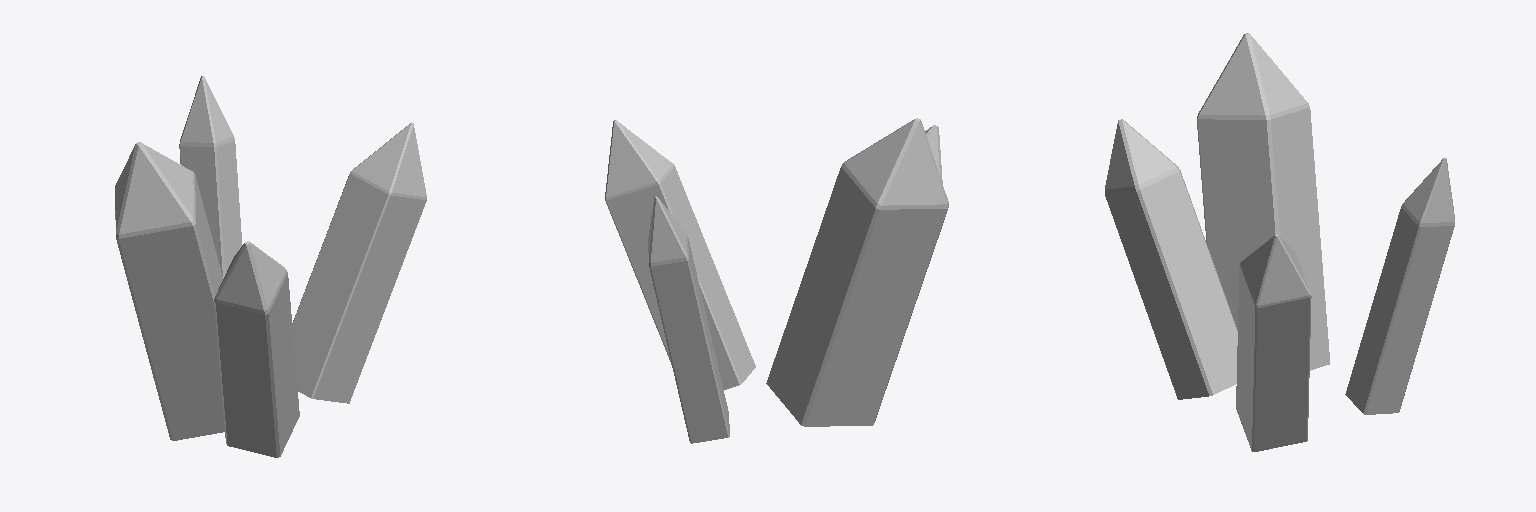
File: Stage1.obj
The picture shows the model from 3 angles: view 1: azimuth 30°, elevation 25°; view 2: azimuth 150°, elevation 25°; view 3: azimuth 270°, elevation 25°; orthographic projection.
Visible parts, largest first — view 1: Stage1_CrystalStage1_CrystalCrack; view 2: Stage1_CrystalStage1_CrystalCrack; view 3: Stage1_CrystalStage1_CrystalCrack.
Boxes of the visible parts, box(x1,y1,x2,y2) form: Stage1_CrystalStage1_CrystalCrack: box(115, 76, 426, 457); Stage1_CrystalStage1_CrystalCrack: box(605, 118, 948, 443); Stage1_CrystalStage1_CrystalCrack: box(1105, 33, 1454, 451).
Bounding box in the file's own units: 0.483 × 0.4548 × 0.4585.